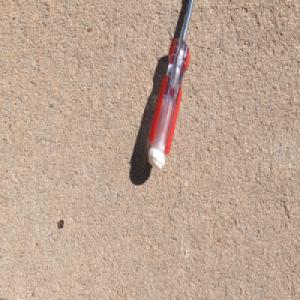Screwdriver: (146, 0, 196, 172)
